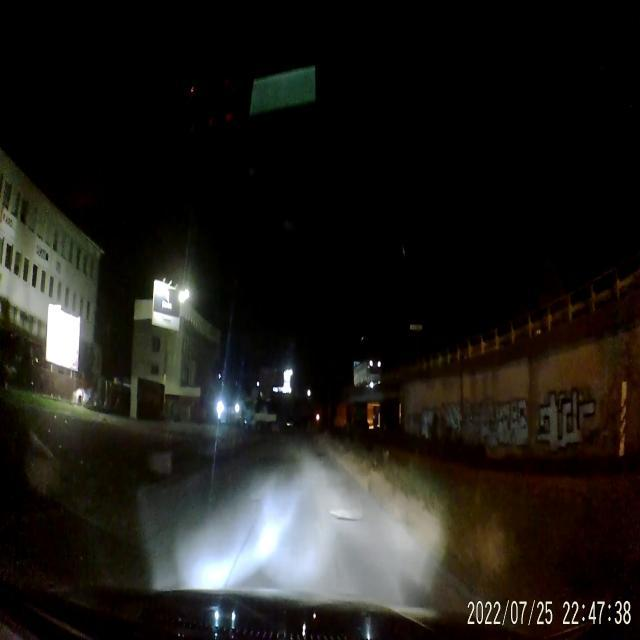Pothole: (332, 498, 362, 530), (248, 496, 262, 504)
